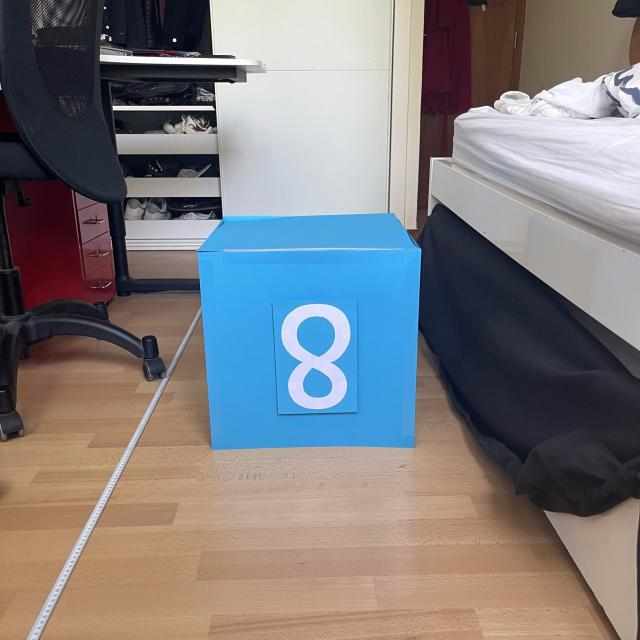box: (193, 209, 424, 452)
